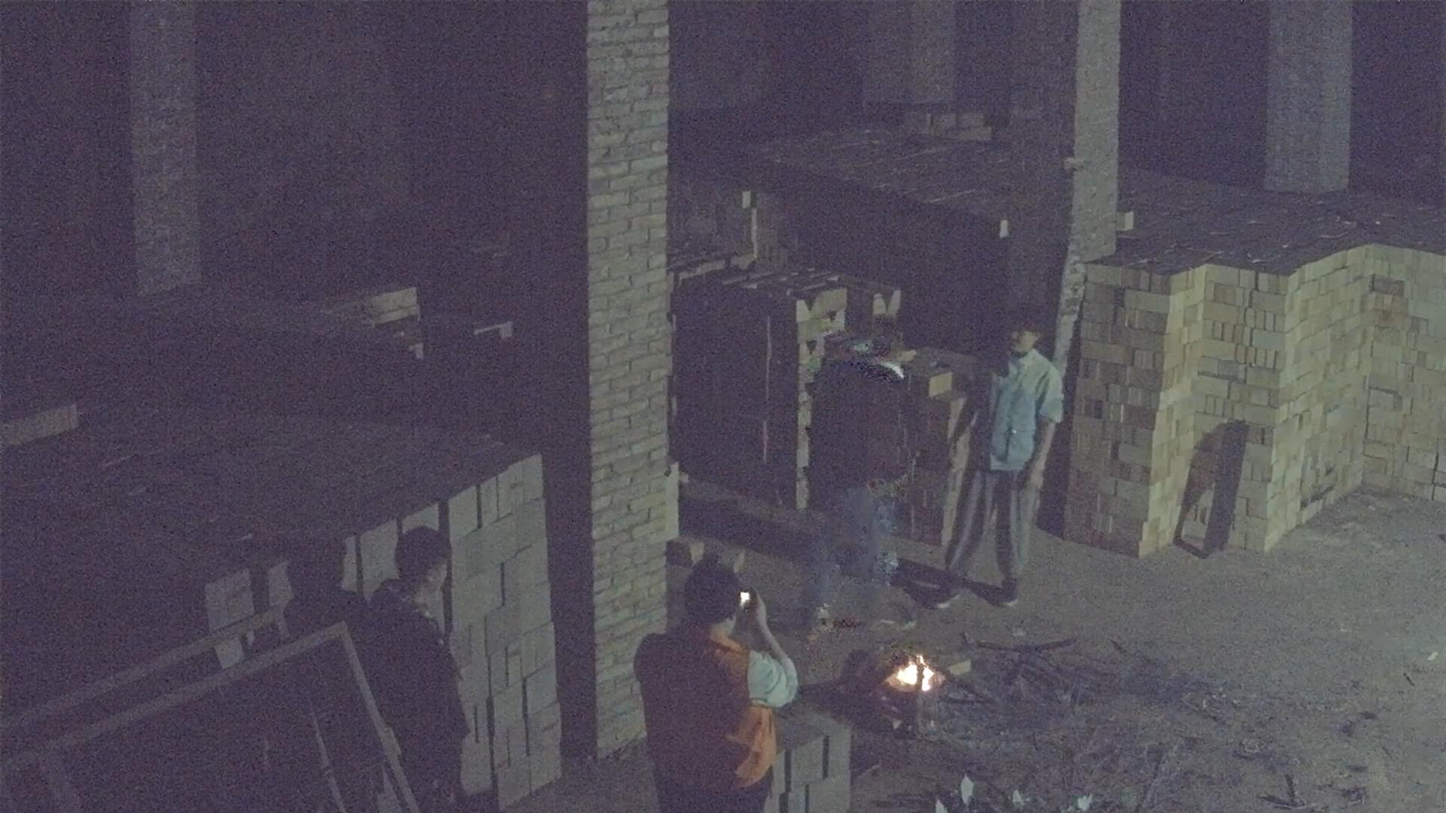fire: (883, 654, 941, 696)
